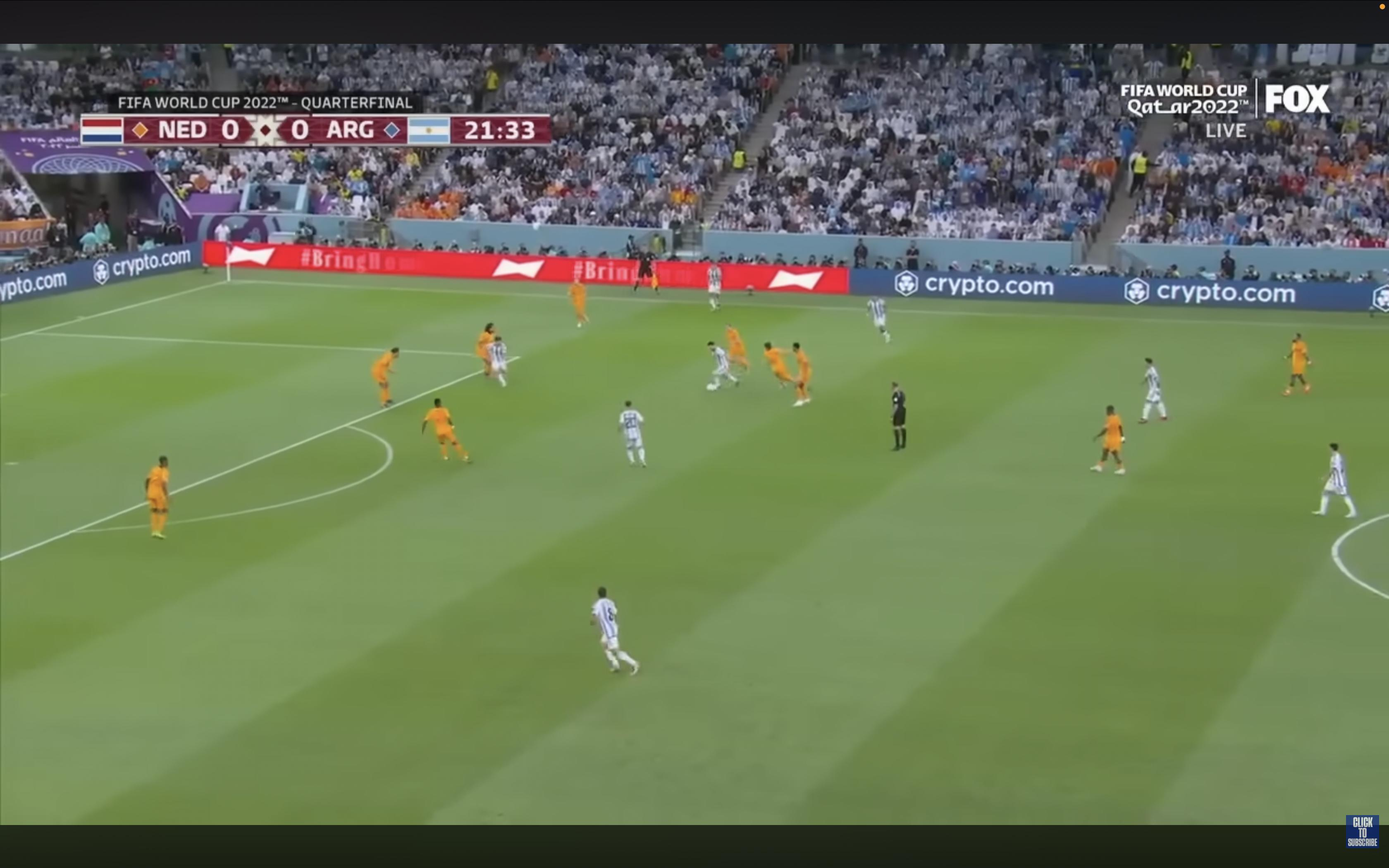ball: (706, 383, 718, 391)
player: (591, 587, 640, 674), (1314, 443, 1358, 518), (421, 398, 470, 463), (1092, 406, 1126, 475), (144, 456, 169, 539), (619, 400, 647, 467), (1140, 358, 1168, 424), (1283, 333, 1311, 395), (372, 347, 400, 408), (706, 341, 739, 391), (764, 342, 794, 388), (792, 342, 812, 407), (726, 324, 749, 372), (475, 322, 495, 377), (487, 334, 507, 387), (867, 299, 890, 342), (568, 281, 589, 327), (707, 264, 722, 312)
referee: (632, 252, 659, 293), (891, 382, 906, 451)
